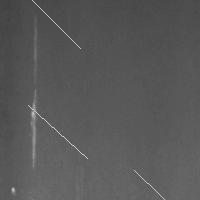scratches: (23, 100, 92, 163), (27, 0, 85, 53), (26, 12, 43, 171), (129, 165, 194, 200), (8, 184, 17, 196)
